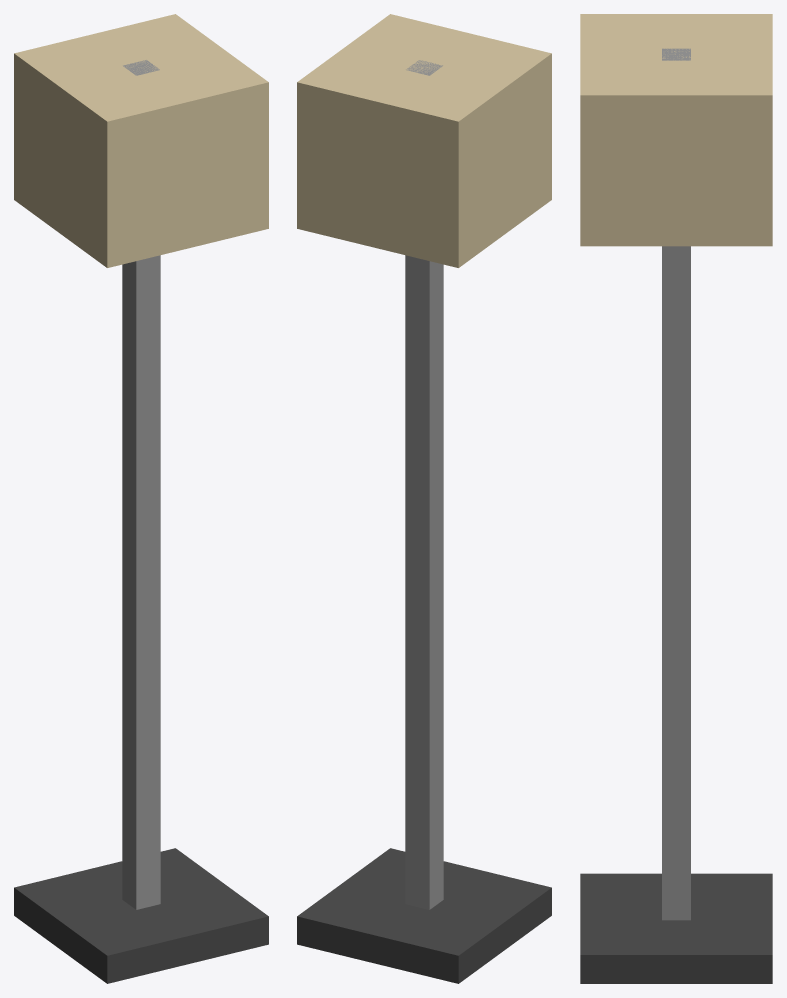
File: floor_lamp.glb
The picture shows the model from 3 angles, left to right: view 1: azimuth 30°, elevation 25°; view 2: azimuth 150°, elevation 25°; view 3: azimuth 270°, elevation 25°; orthographic projection. The views are drawn at different scales.
Parts seen in each view (by area): view 1: furniture; view 2: furniture; view 3: furniture.
Boxes of the visible parts, x1,y1,x2,y2 form: furniture: (14, 14, 268, 983); furniture: (297, 14, 551, 983); furniture: (580, 14, 772, 983).
Bounding box in the file's own units: 0.3 × 1.53 × 0.3.
